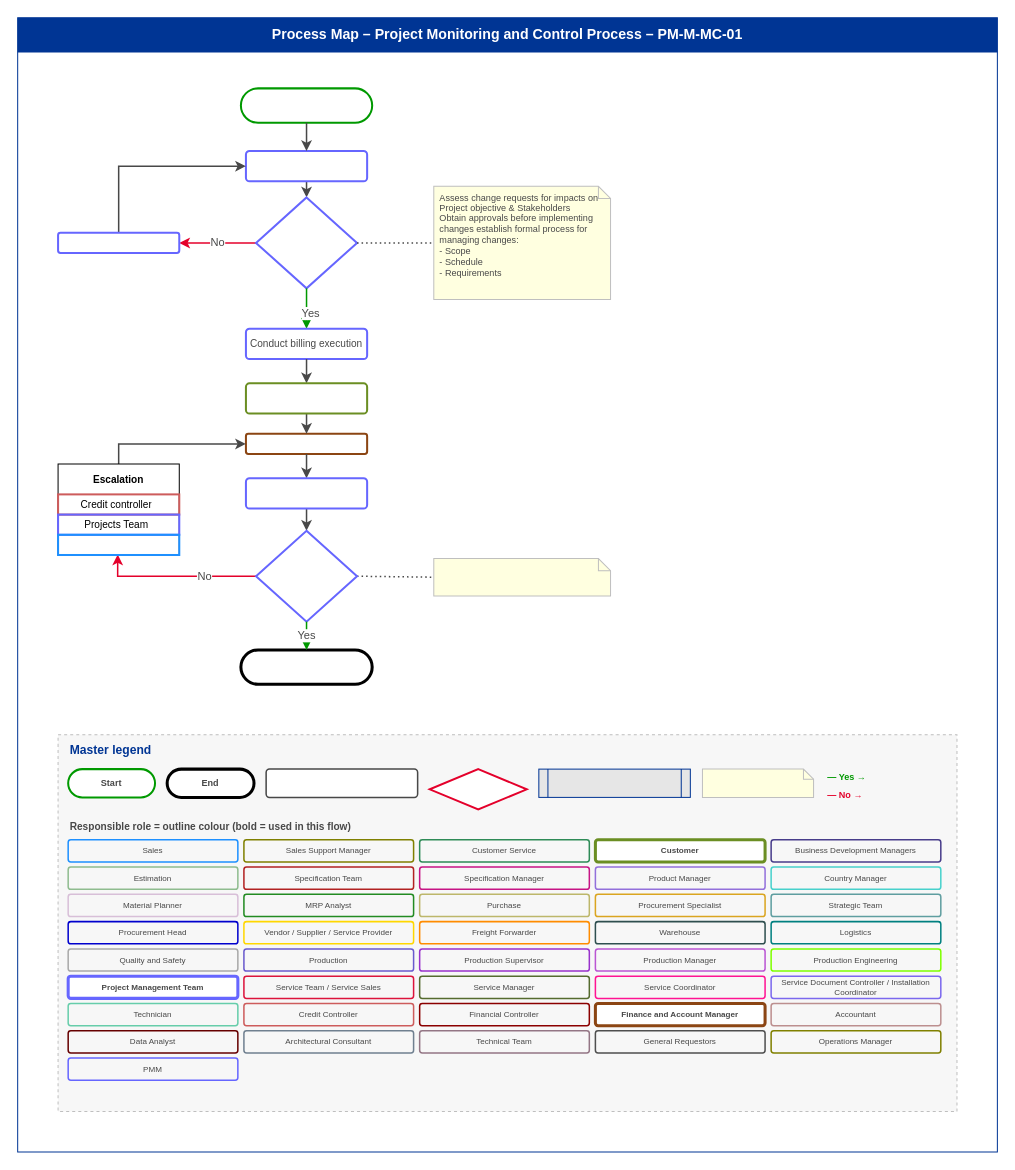
The diagram is 1015 pixels wide and 1170 high, and some of its shapes have lost their labels. The box of each missing label's shape, as (x1, y1, x2, y2) in pixels:
Activity (outline = role): (265, 768, 418, 798)
Billing and invoicing: (244, 432, 368, 454)
Change management: (57, 231, 180, 254)
Closing: (239, 648, 373, 685)
Collection Team Followup!: (244, 477, 368, 509)
Decision: (428, 768, 527, 810)
Ensure accurate and timely billing as per c ontractual agreements.: (433, 558, 611, 596)
Issue Payment Certificate: (244, 382, 368, 414)
Linked process (Ref ID): (538, 768, 690, 797)
Monitor & Control: (239, 87, 373, 123)
Note / checklist: (701, 768, 814, 797)
Payment on-track?: (255, 529, 358, 622)
Project plan review & control: (244, 149, 368, 182)
Project progressing as planned?: (255, 196, 358, 289)
Sales Account Manager: (57, 533, 180, 556)
